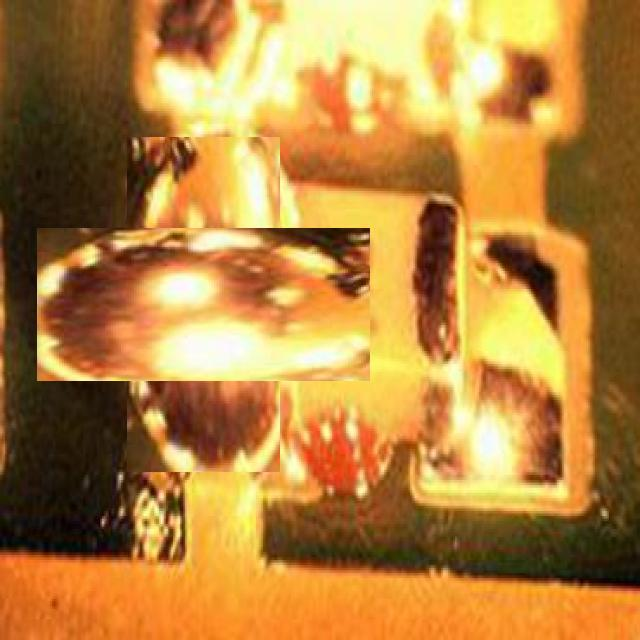redundant: (37, 229, 370, 381)
